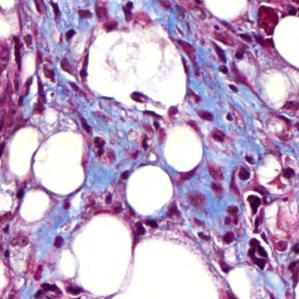steatosis: (123, 162, 177, 211), (161, 122, 208, 170)
